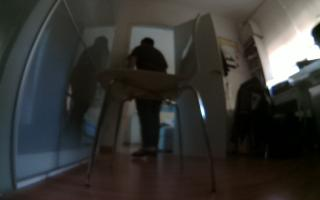person: (124, 33, 175, 161)
